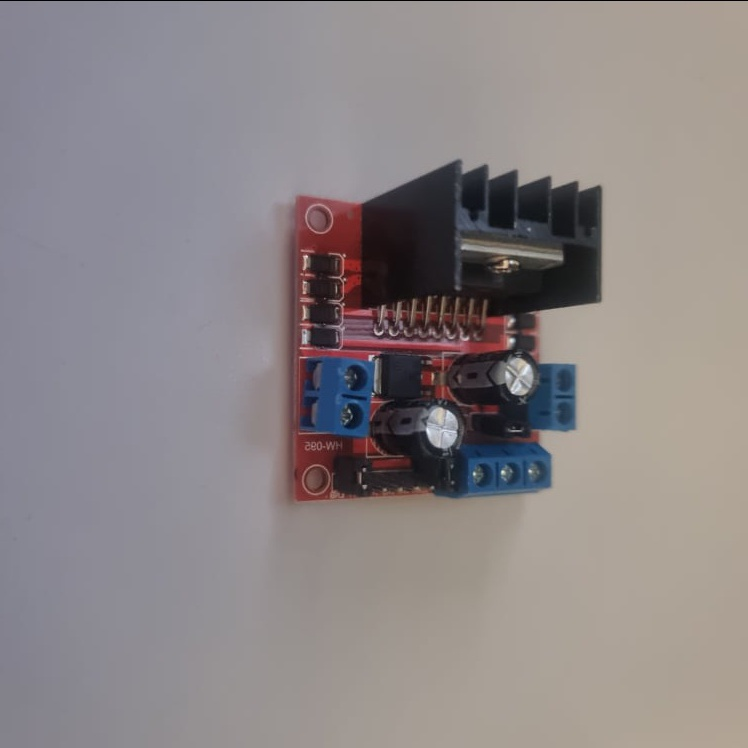MOTOR: (291, 158, 606, 502)
